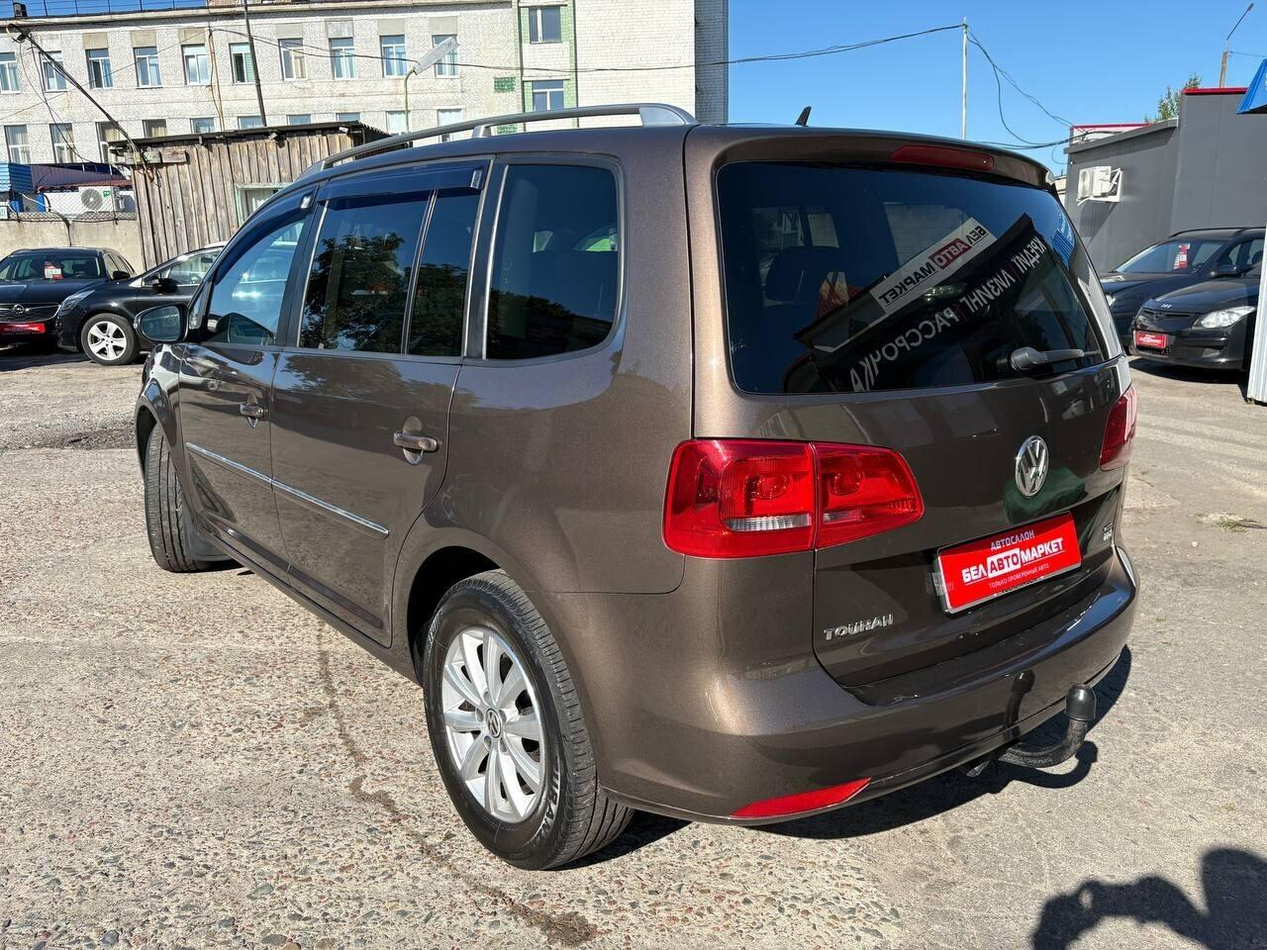Touran_2010-2015: (124, 121, 1146, 868)
